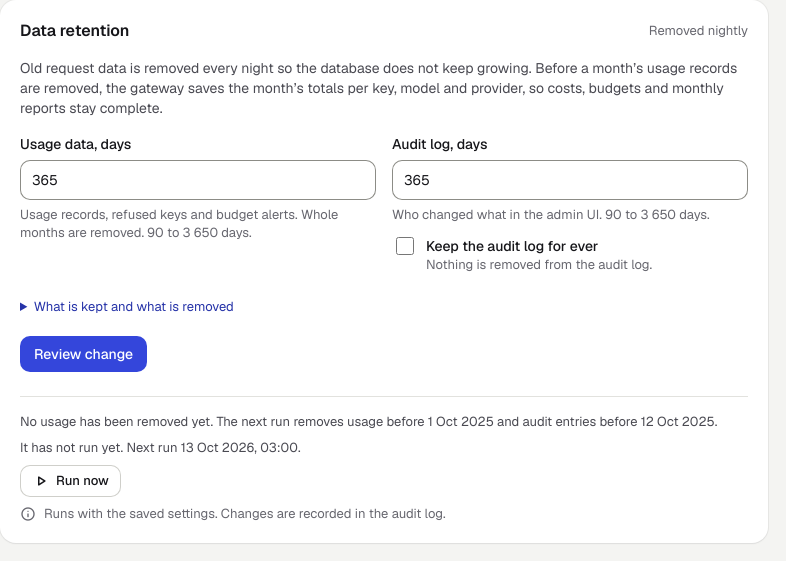
Test: RetentionCard › refuses 30 days before asking
Replace the text in the field with id "retention-usage" with "30" at (198, 180), box x1=20 y1=160 x2=376 y2=200
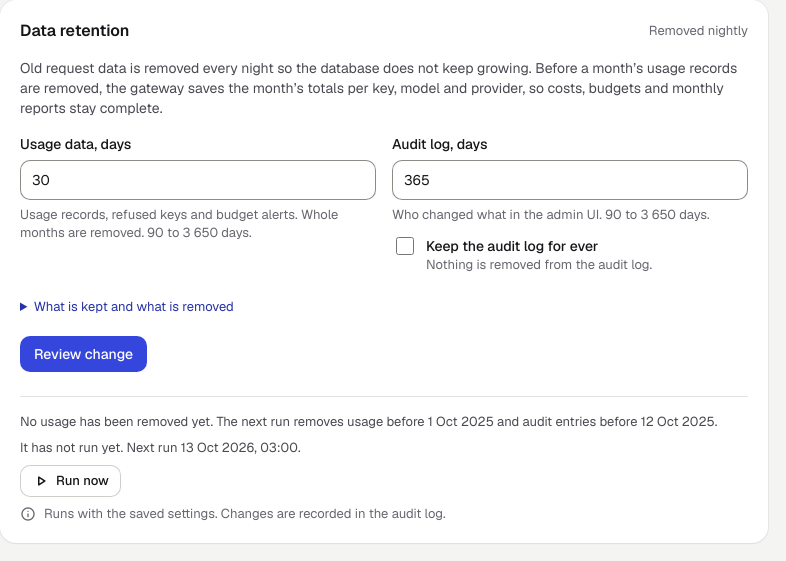
Submit the form, box x1=20 y1=134 x2=748 y2=372
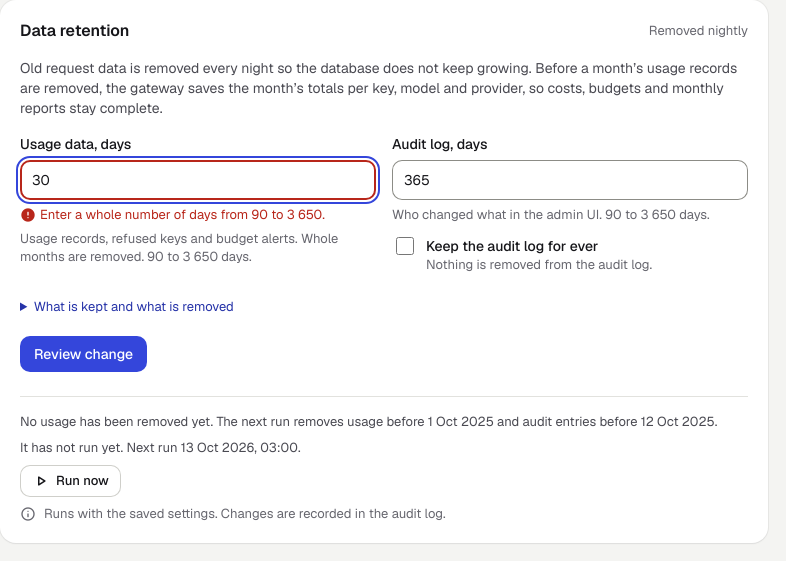
Expected: the text "Enter a whole number of days from 90" is shown, x1=40 y1=206 x2=325 y2=223
